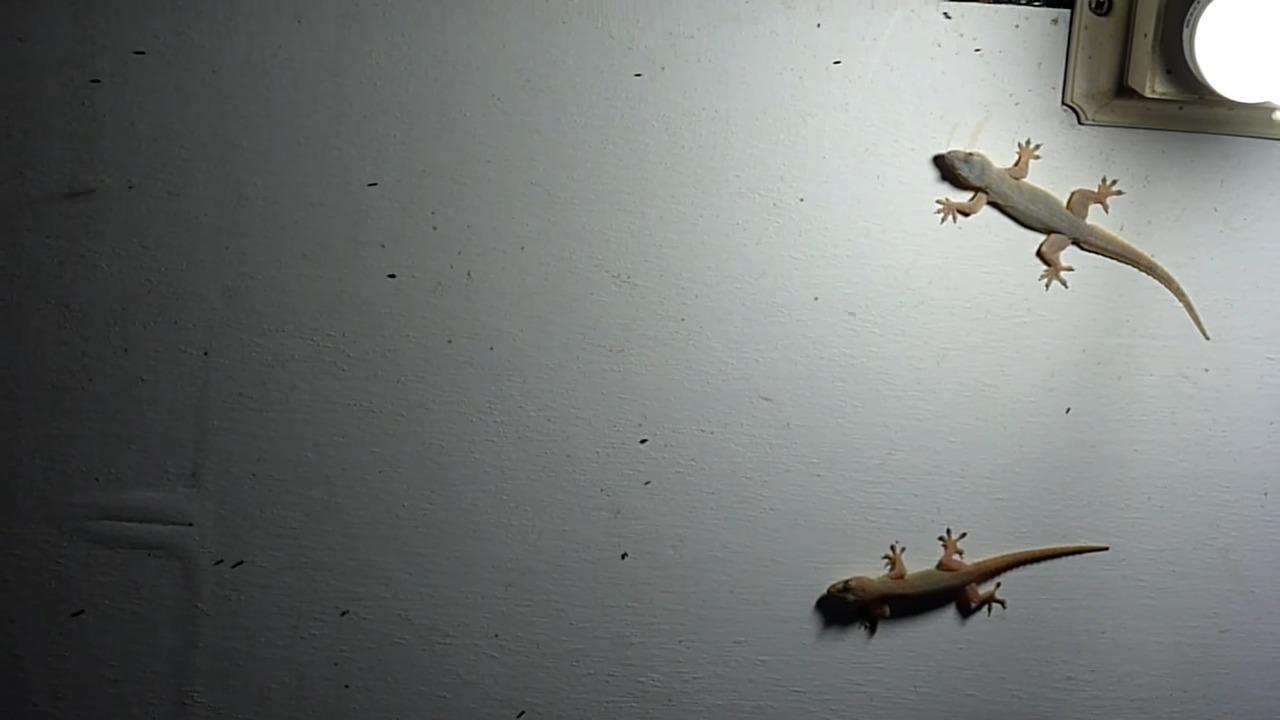lizard: (875, 127, 1225, 356), (787, 480, 1142, 632)
